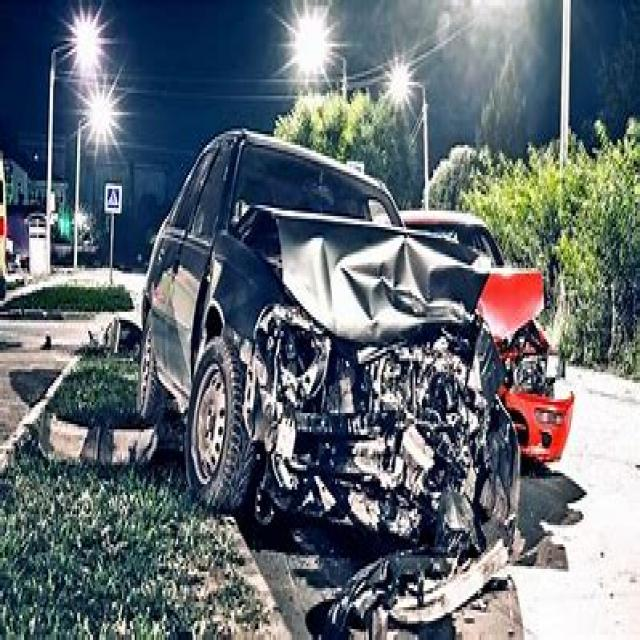Accident: (102, 66, 521, 548)
